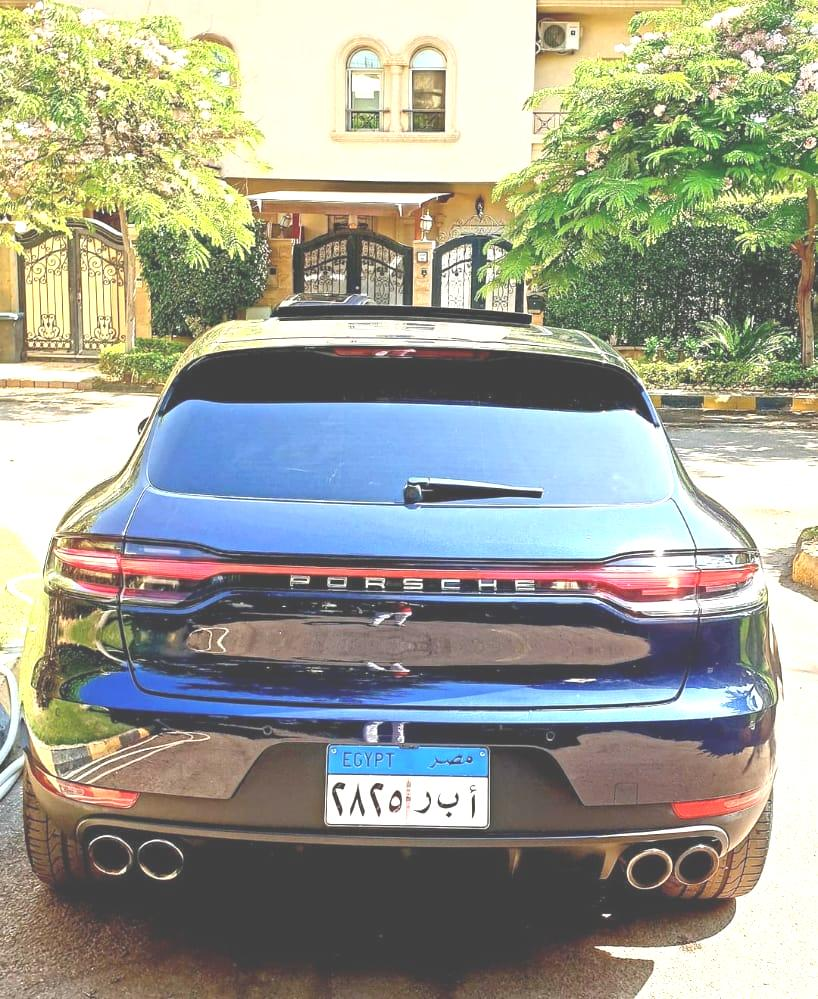porsche: (264, 558, 553, 603)
